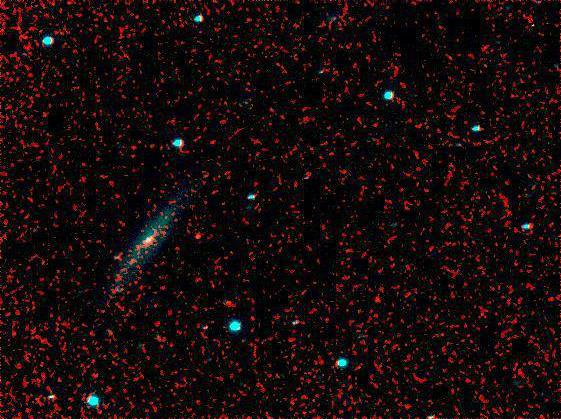star: (185, 221, 215, 251)
